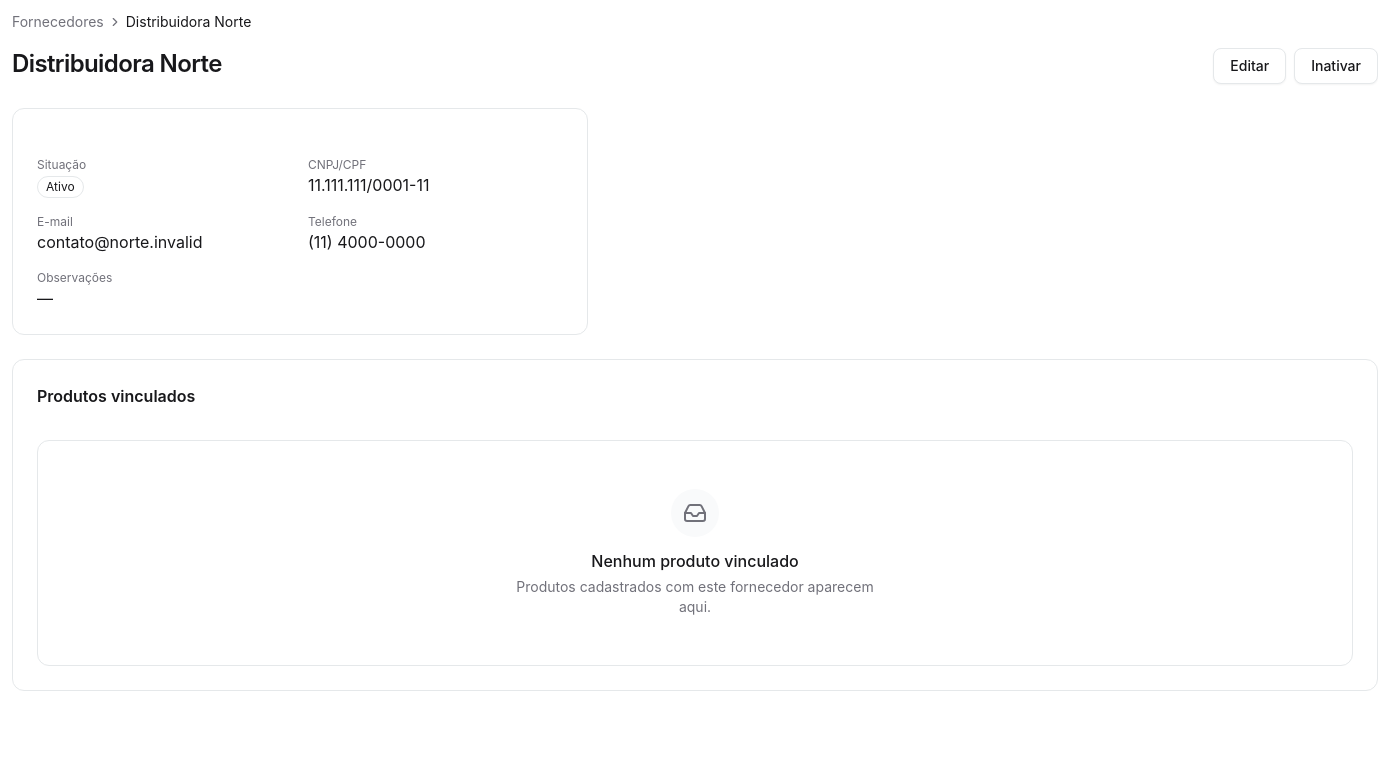
Test: SupplierDetailPage › editar, salvar, e a lista reflete o novo nome
Check: the heading "Distribuidora Norte" is shown, box top-left (12, 48), bottom-right (222, 80)
Step 1. Click the button "Editar" → (1250, 66), box top-left (1213, 48), bottom-right (1286, 84)
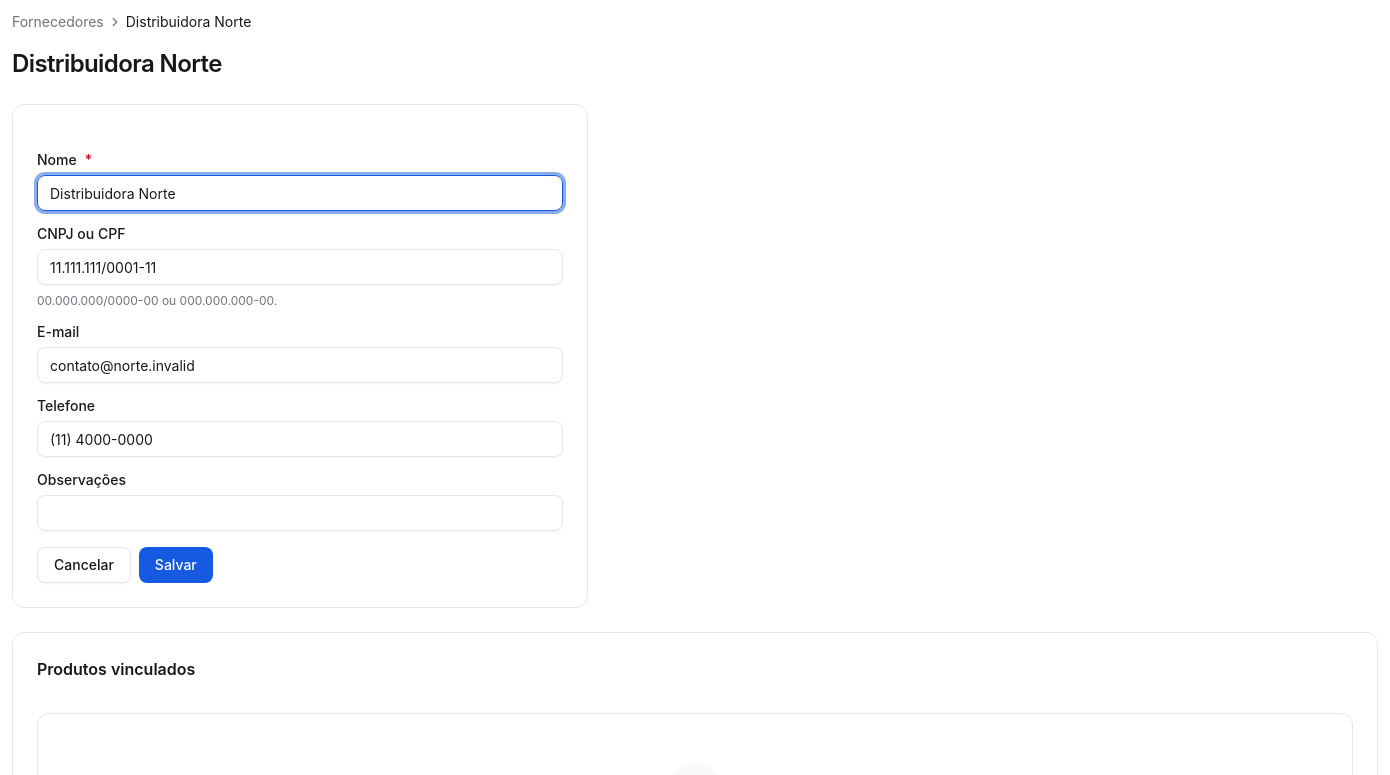
Step 2. Replace the text in the field labelled "Nome *" with "Distribuidora Norte Ltda" → (300, 193), box top-left (37, 175), bottom-right (563, 211)
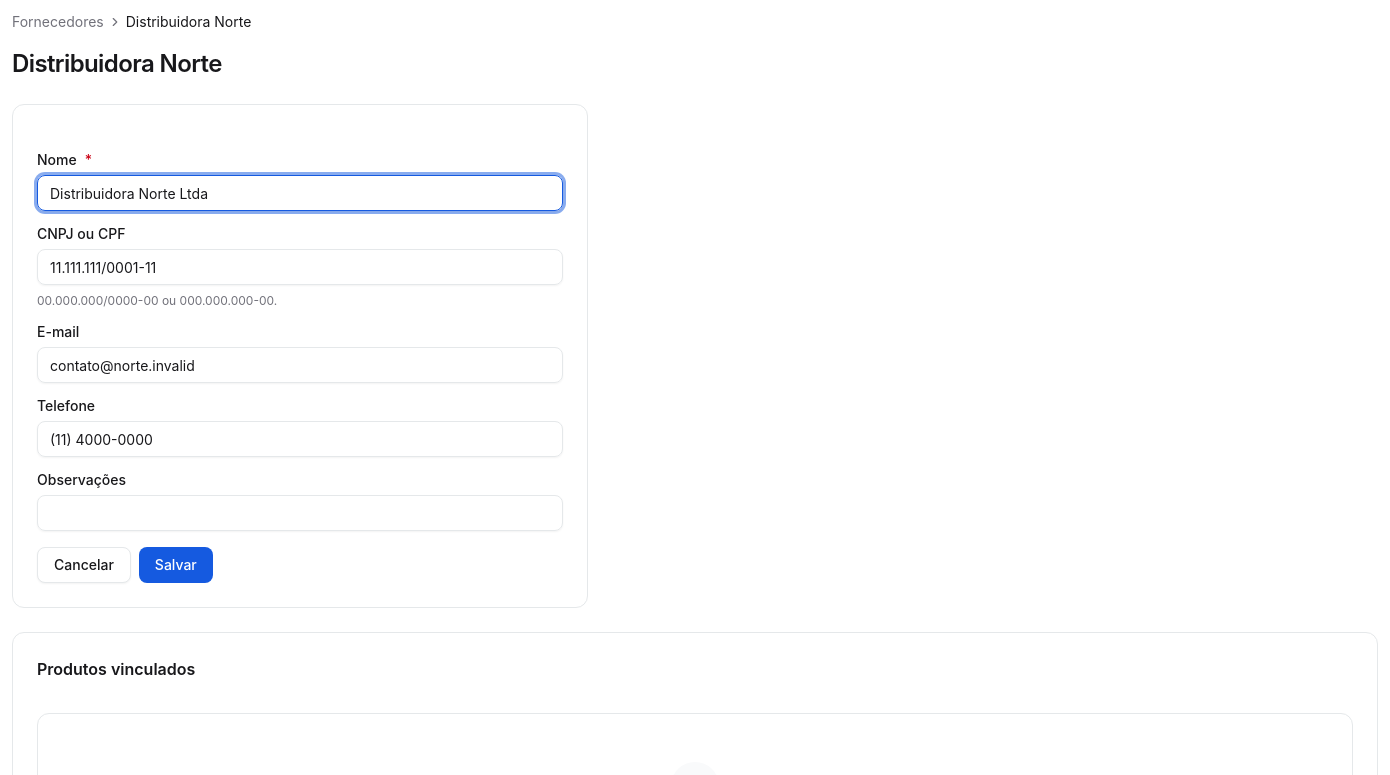
Step 3. Click the button "Salvar" → (176, 565), box top-left (139, 547), bottom-right (213, 583)
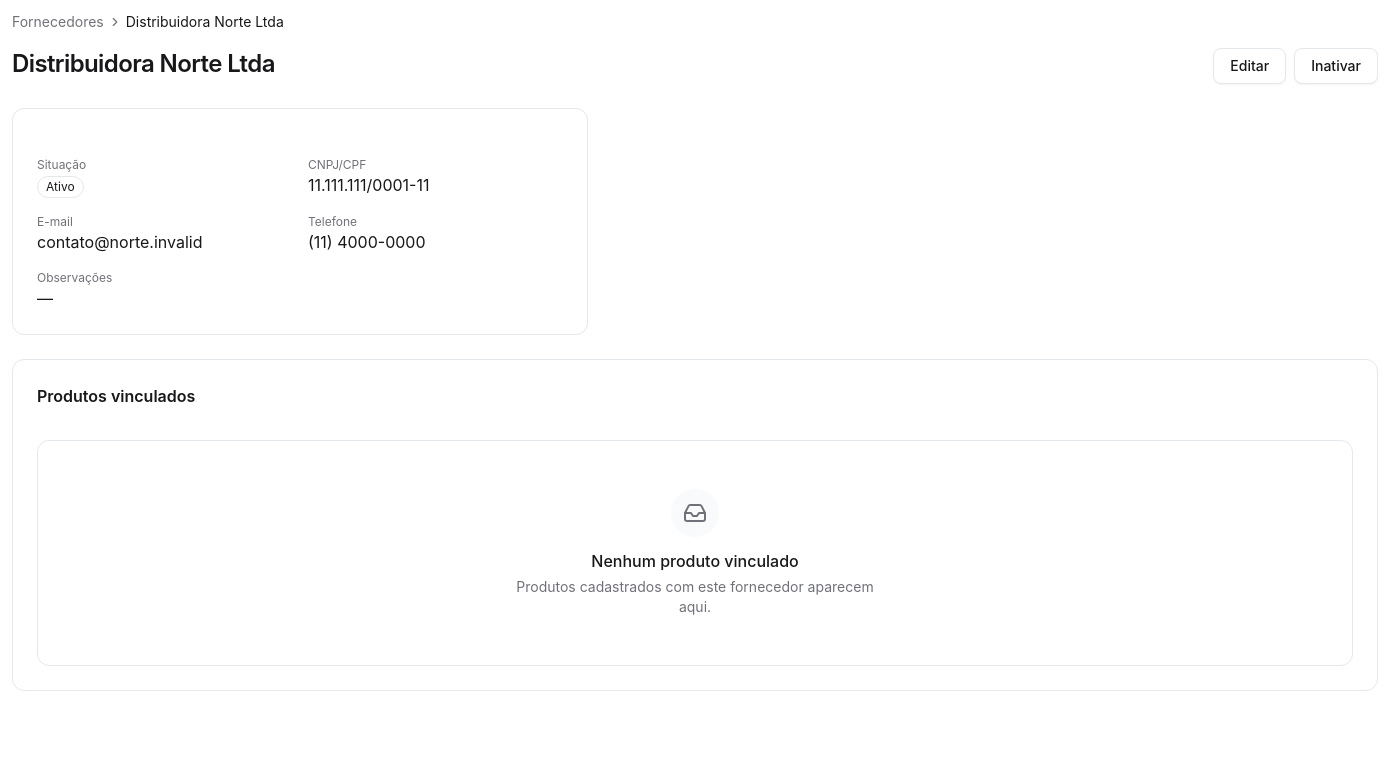
Check: the heading "Distribuidora Norte Ltda" is shown, box top-left (12, 48), bottom-right (275, 80)
